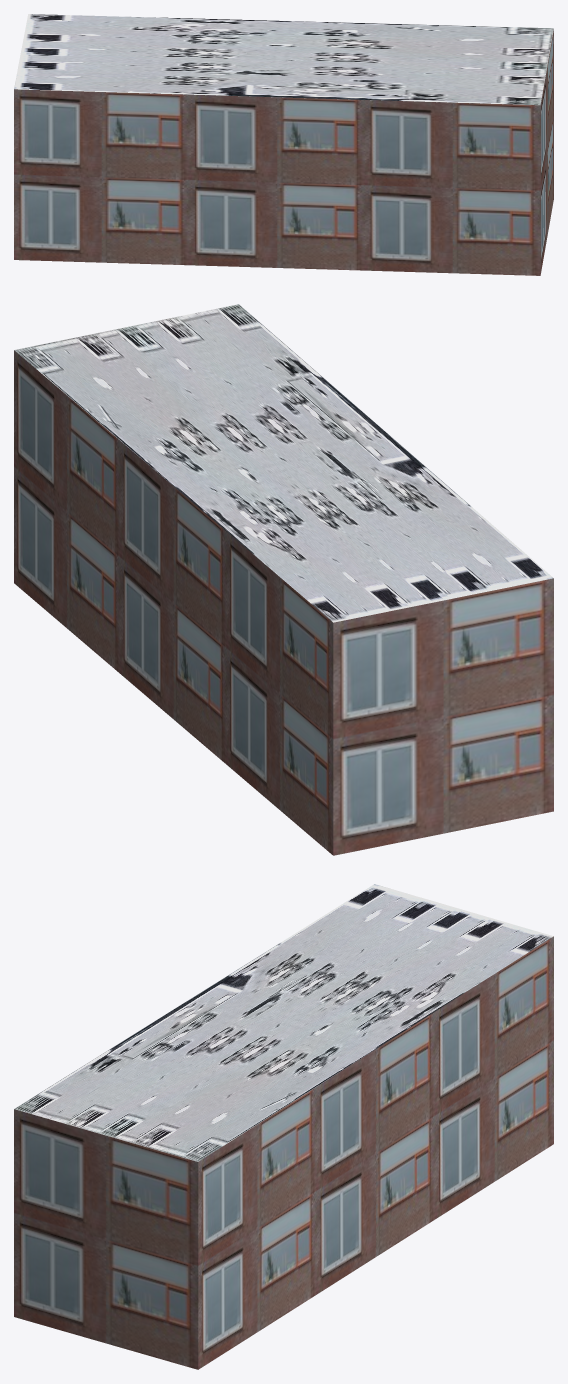
Rendered from ResTex__4636.fbx.
3 views of the same model, one above another, from view 1: azimuth 30°, elevation 25°; view 2: azimuth 150°, elevation 25°; view 3: azimuth 270°, elevation 25° (orthographic). The views are drawn at different scales.
Parts seen in each view (by area): view 1: CityEngineMaterial_19_m, CityEngineMaterial_15_m; view 2: CityEngineMaterial_19_m, CityEngineMaterial_15_m; view 3: CityEngineMaterial_19_m, CityEngineMaterial_15_m.
Boxes of the visible parts, <box> form: CityEngineMaterial_19_m: <box>14,29,553,275</box>; CityEngineMaterial_15_m: <box>14,14,553,105</box>; CityEngineMaterial_19_m: <box>14,350,553,855</box>; CityEngineMaterial_15_m: <box>14,304,553,622</box>; CityEngineMaterial_19_m: <box>14,936,553,1369</box>; CityEngineMaterial_15_m: <box>14,884,553,1161</box>.
Bounding box in the file's own units: 17.21 × 6 × 14.13.
2 materials, 2 textured.
